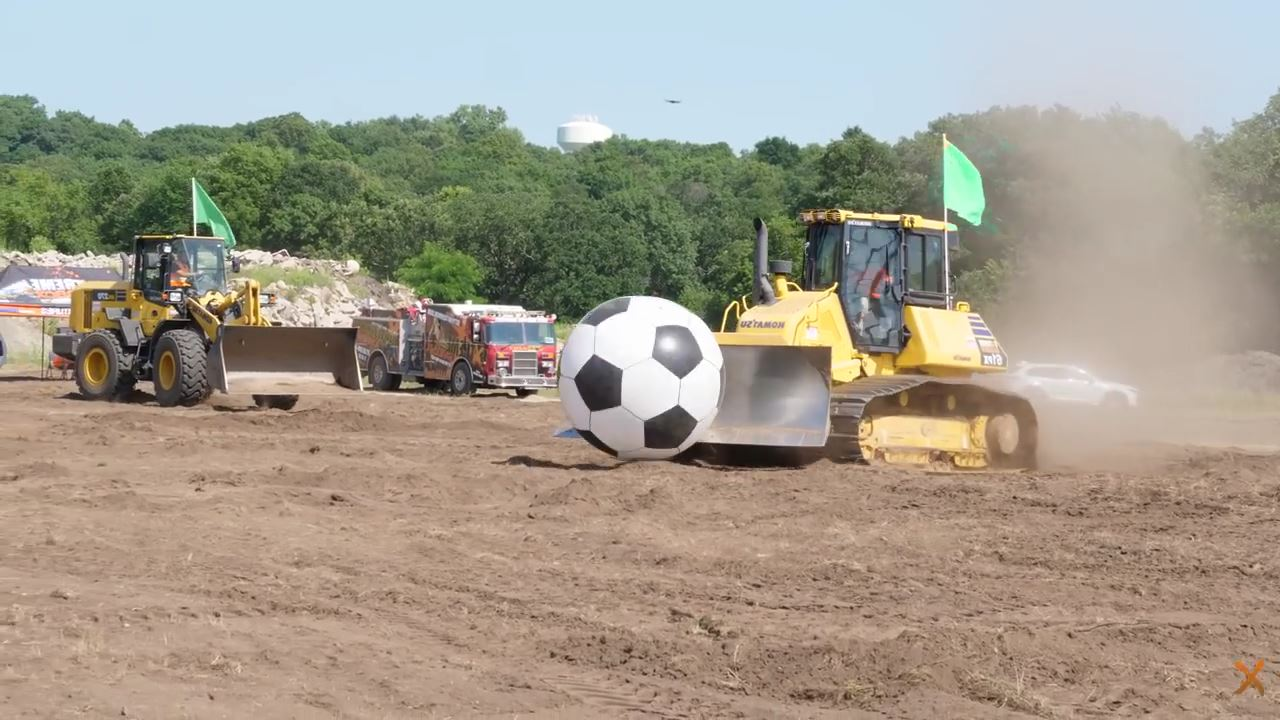con_eq: (656, 201, 1039, 479), (51, 230, 364, 411), (348, 300, 557, 399)
